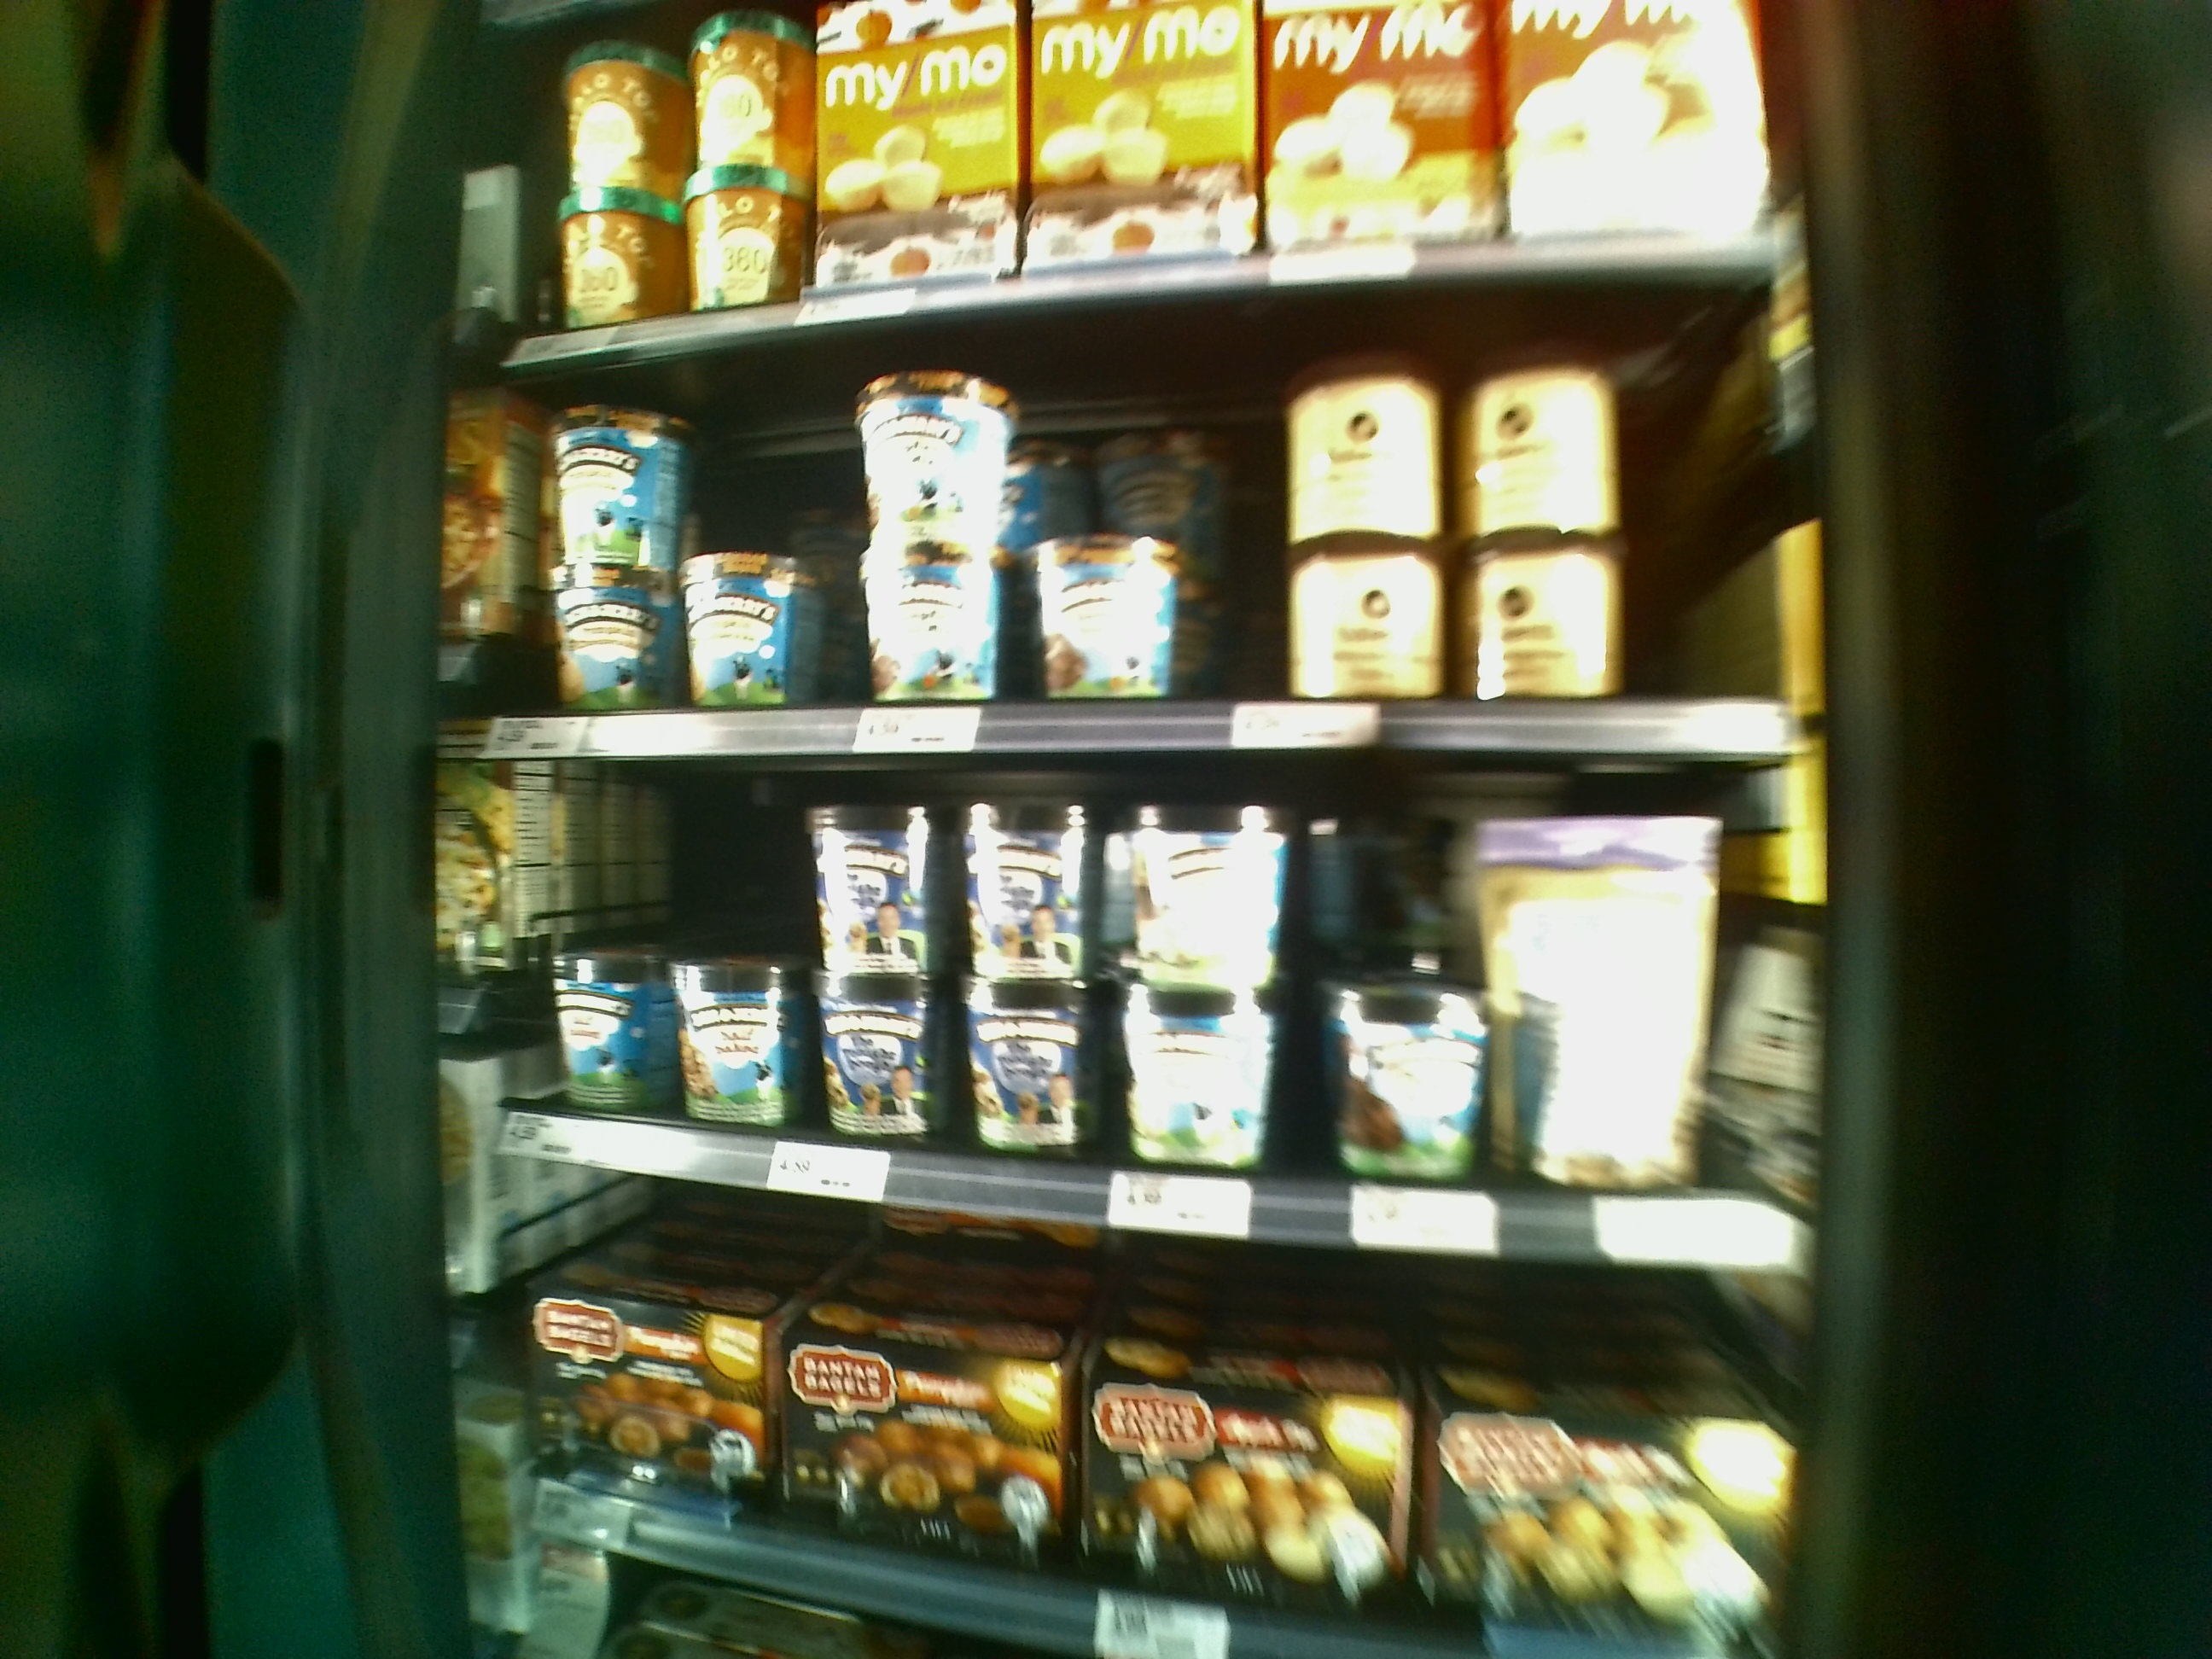shelf: (462, 735, 1820, 1265), (479, 324, 1792, 769)
